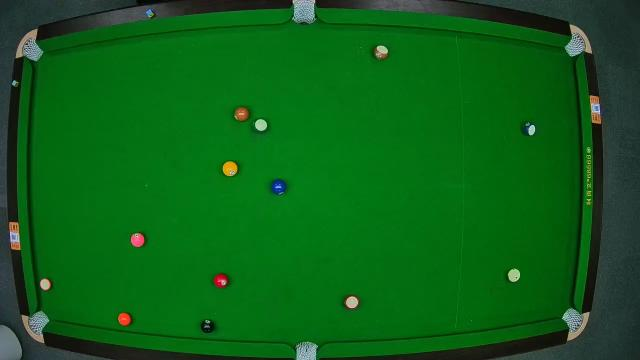bag1: (20, 37, 40, 59)
bag2: (291, 0, 317, 26)
bag3: (568, 34, 588, 56)
bag4: (28, 309, 50, 333)
bag5: (294, 338, 318, 360)
bag6: (562, 309, 584, 331)
ball0: (507, 268, 521, 282)
ball1: (222, 160, 238, 176)
ball10: (520, 121, 536, 136)
ball11: (344, 294, 360, 310)
ball12: (38, 276, 52, 292)
ball14: (252, 117, 268, 133)
ball15: (374, 43, 388, 60)
ball2: (270, 180, 286, 197)
ball3: (214, 274, 230, 288)
ball4: (130, 232, 146, 248)
ball5: (119, 313, 131, 327)
ball7: (234, 106, 250, 121)
ball8: (200, 318, 216, 334)
